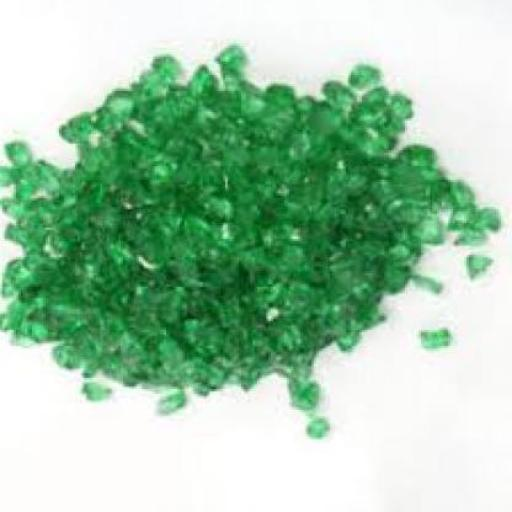glass: (62, 298, 270, 399), (150, 116, 314, 234), (184, 170, 264, 364), (258, 125, 316, 385), (29, 198, 130, 344), (310, 136, 374, 355), (86, 130, 223, 202), (39, 164, 162, 236), (127, 189, 184, 334), (360, 150, 412, 300), (342, 182, 444, 255), (298, 214, 418, 271), (312, 261, 387, 333), (294, 100, 346, 142), (170, 84, 205, 126), (36, 158, 74, 196), (376, 105, 412, 144), (264, 89, 298, 128), (2, 266, 32, 308), (407, 150, 442, 185), (320, 82, 362, 111), (234, 89, 269, 123), (141, 70, 173, 107), (364, 130, 406, 157), (193, 70, 225, 105), (2, 198, 39, 228), (462, 255, 494, 289), (93, 104, 127, 136), (16, 168, 48, 202), (111, 93, 141, 127), (353, 66, 387, 93), (152, 59, 186, 86), (291, 391, 321, 421), (138, 105, 173, 129), (287, 96, 319, 121), (7, 148, 39, 173), (367, 87, 394, 116), (63, 126, 98, 148), (428, 184, 454, 212), (80, 385, 116, 405), (152, 399, 189, 418), (476, 210, 502, 236), (78, 118, 100, 148), (3, 312, 27, 339), (18, 327, 52, 346), (355, 107, 387, 127), (450, 187, 478, 209), (450, 232, 488, 248), (306, 419, 332, 441), (418, 335, 453, 351), (223, 48, 248, 70), (455, 208, 475, 234), (223, 68, 243, 93), (421, 280, 445, 300), (392, 105, 414, 125), (2, 174, 24, 193), (10, 234, 32, 250), (417, 171, 441, 182)
